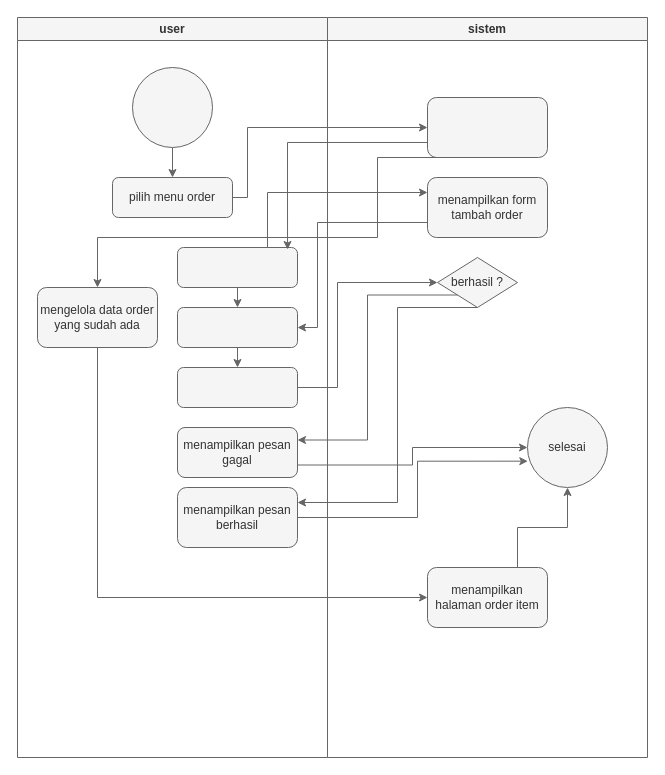
This 665x775 diagram has some shape labels left out. The centre of each missing label's shape, as x and y in pixels:
menambahkan data order: pixel 237 327
menampilkan halaman order: pixel 487 127
menekan tombol buat order: pixel 237 387
menekan tombol tambah order: pixel 237 267
mulai: pixel 172 107
